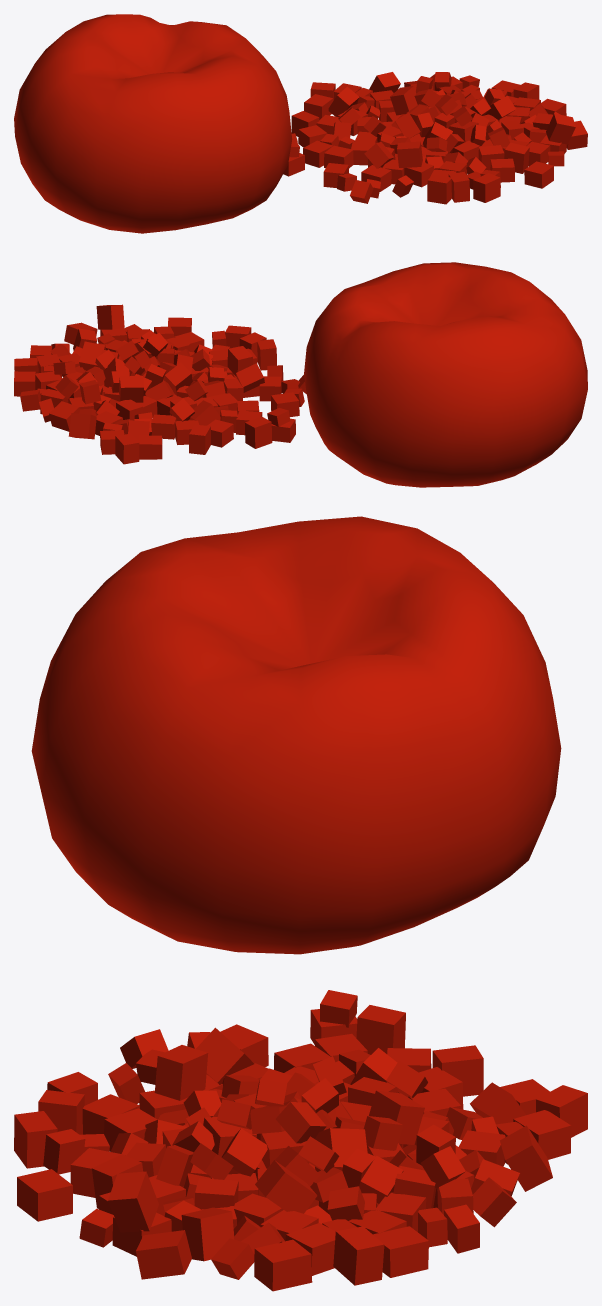
Rendered from Tomato_Final.fbx.
3 views of the same model, one above another, from view 1: azimuth 30°, elevation 25°; view 2: azimuth 150°, elevation 25°; view 3: azimuth 270°, elevation 25° (orthographic). The views are drawn at different scales.
Parts seen in each view (by area): view 1: Sphere.005, Sphere.204; view 2: Sphere.005, Sphere.204; view 3: Sphere.005, Sphere.204.
Boxes of the visible parts, left/top/right/bottom form: Sphere.005: left=14, top=14, right=292, bottom=233; Sphere.204: left=283, top=72, right=587, bottom=204; Sphere.005: left=304, top=262, right=587, bottom=487; Sphere.204: left=14, top=304, right=306, bottom=464; Sphere.005: left=31, top=516, right=561, bottom=954; Sphere.204: left=14, top=990, right=587, bottom=1291.
Size of the model in its own units: 384 by 120 by 186.
